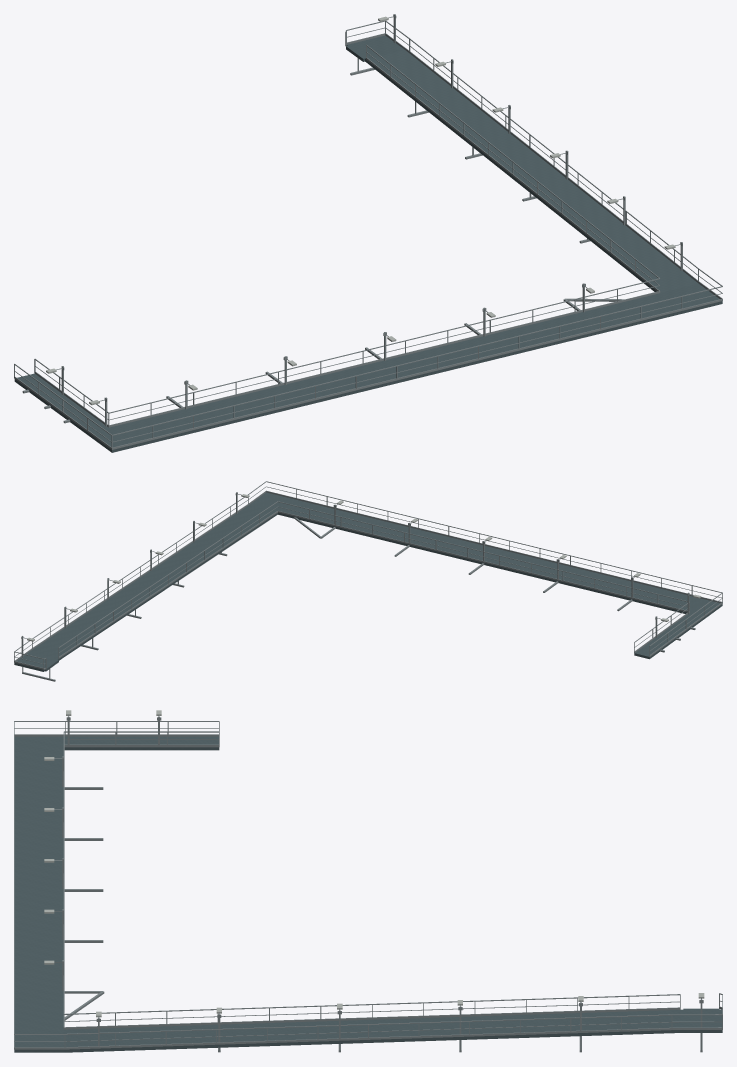
The model's file is AUTHORING_COMPONENTS_r001.glb.
The picture shows the model from 3 angles, top to bottom: view 1: azimuth 30°, elevation 25°; view 2: azimuth 150°, elevation 25°; view 3: azimuth 270°, elevation 25°; orthographic projection. The views are drawn at different scales.
Visible parts, largest first — view 1: AQER_SouthWest_LevelFloor, AQER_East_RampFloor, AQER_East_EntranceFloor; view 2: AQER_SouthWest_LevelFloor, AQER_East_RampFloor, AQER_East_EntranceFloor; view 3: AQER_SouthWest_LevelFloor, AQER_East_RampFloor, AQER_East_EntranceFloor.
Part boxes in pixels (x1=…): AQER_SouthWest_LevelFloor: x1=14, y1=283, x2=722, y2=452; AQER_East_RampFloor: x1=366, y1=50, x2=698, y2=292; AQER_East_EntranceFloor: x1=346, y1=35, x2=404, y2=62; AQER_SouthWest_LevelFloor: x1=249, y1=492, x2=722, y2=659; AQER_East_RampFloor: x1=30, y1=505, x2=277, y2=660; AQER_East_EntranceFloor: x1=14, y1=651, x2=58, y2=671; AQER_SouthWest_LevelFloor: x1=14, y1=736, x2=219, y2=1052; AQER_East_RampFloor: x1=64, y1=1010, x2=680, y2=1052; AQER_East_EntranceFloor: x1=680, y1=1008, x2=722, y2=1032.
Bounding box in the file's own units: 49.63 × 3.86 × 47.05.
Materials: 4 (3 with a texture image).
